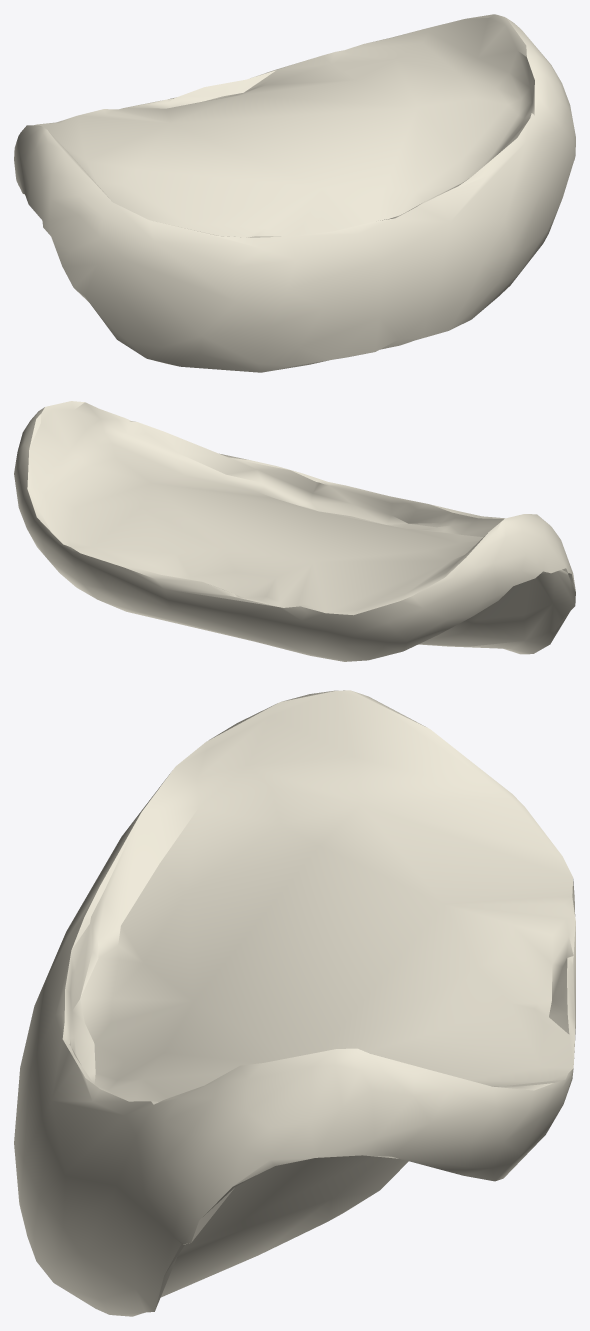
Rendered from fma13898_fj3219.glb.
3 renders of one model, top to bottom at view 1: azimuth 30°, elevation 25°; view 2: azimuth 150°, elevation 25°; view 3: azimuth 270°, elevation 25°, orthographic. The views are drawn at different scales.
Parts seen in each view (by area): view 1: FMA13898_FJ3219; view 2: FMA13898_FJ3219; view 3: FMA13898_FJ3219.
Boxes of the visible parts, box(x1,y1,x2,y2) form: FMA13898_FJ3219: box(14, 14, 575, 372); FMA13898_FJ3219: box(14, 401, 575, 661); FMA13898_FJ3219: box(14, 690, 575, 1316).
Size of the model in its own units: 0.0283 by 0.0108 by 0.0165.
